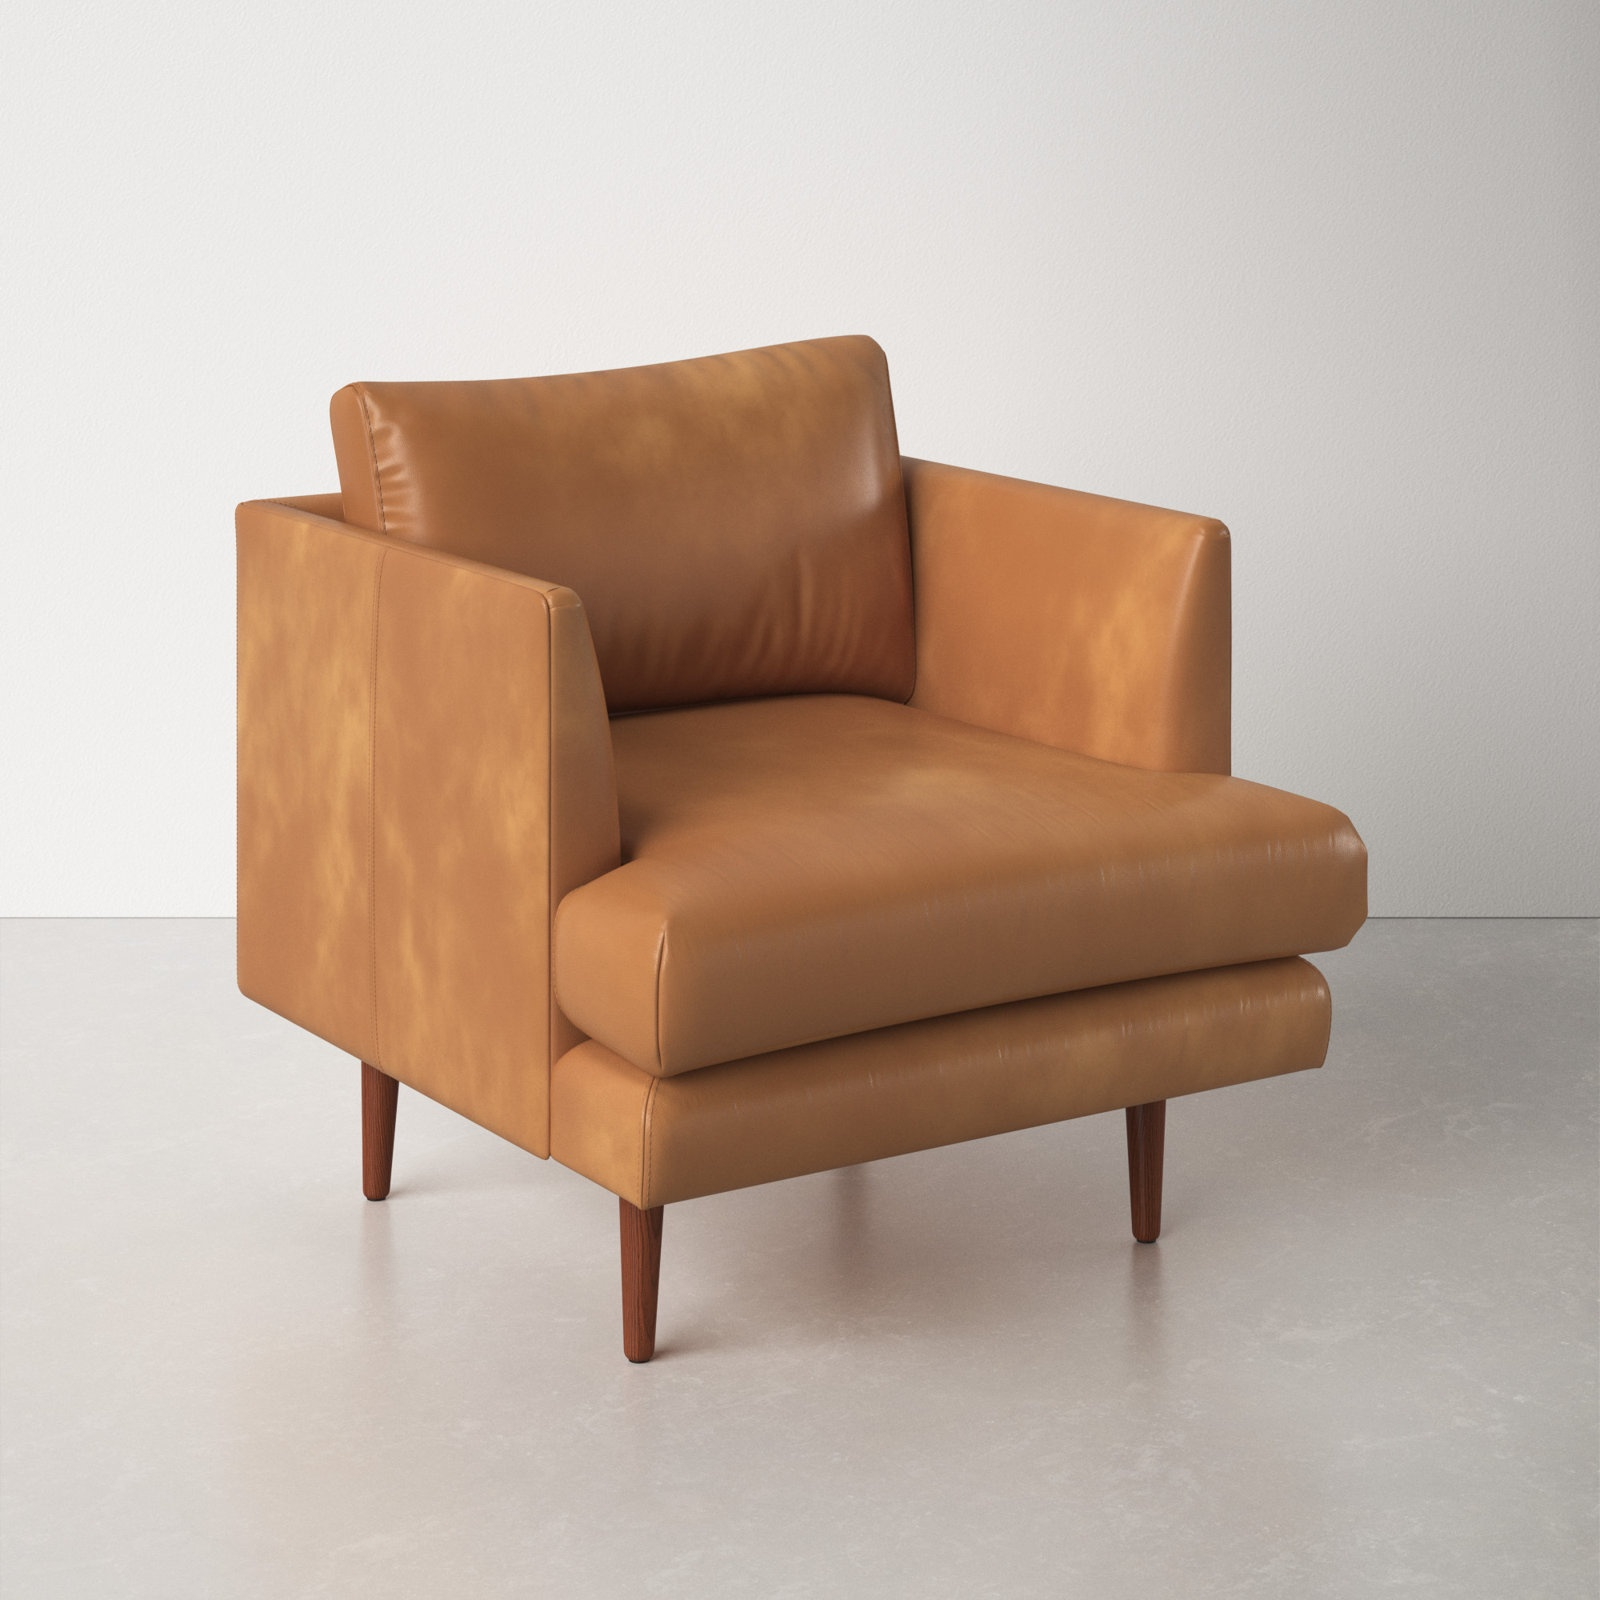obstacle: (237, 337, 1366, 1360)
